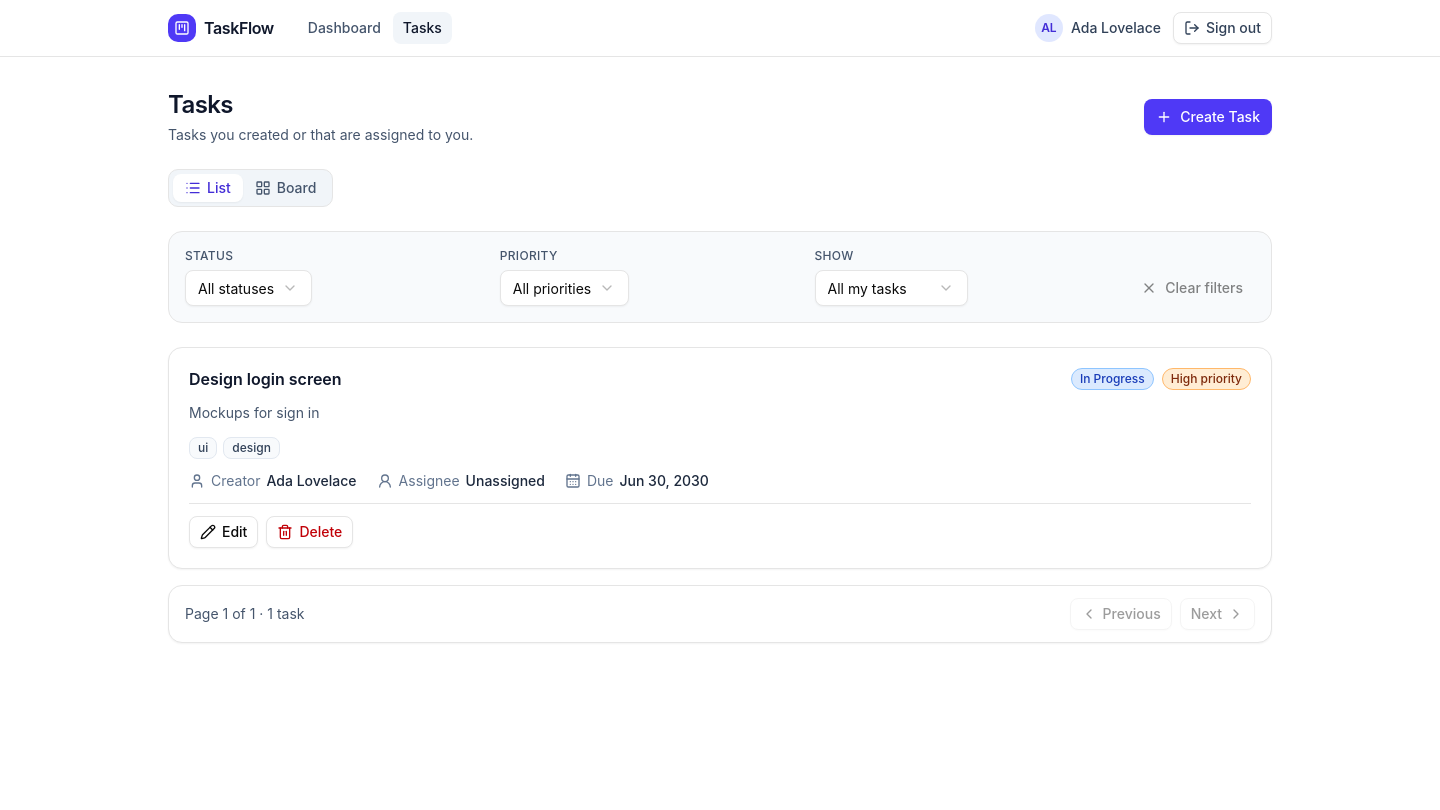
Scenario: edit task › opens pre-filled with the current values
Click the button with aria-label "Edit task: Design login screen": [224, 532] box [189,516,258,548]
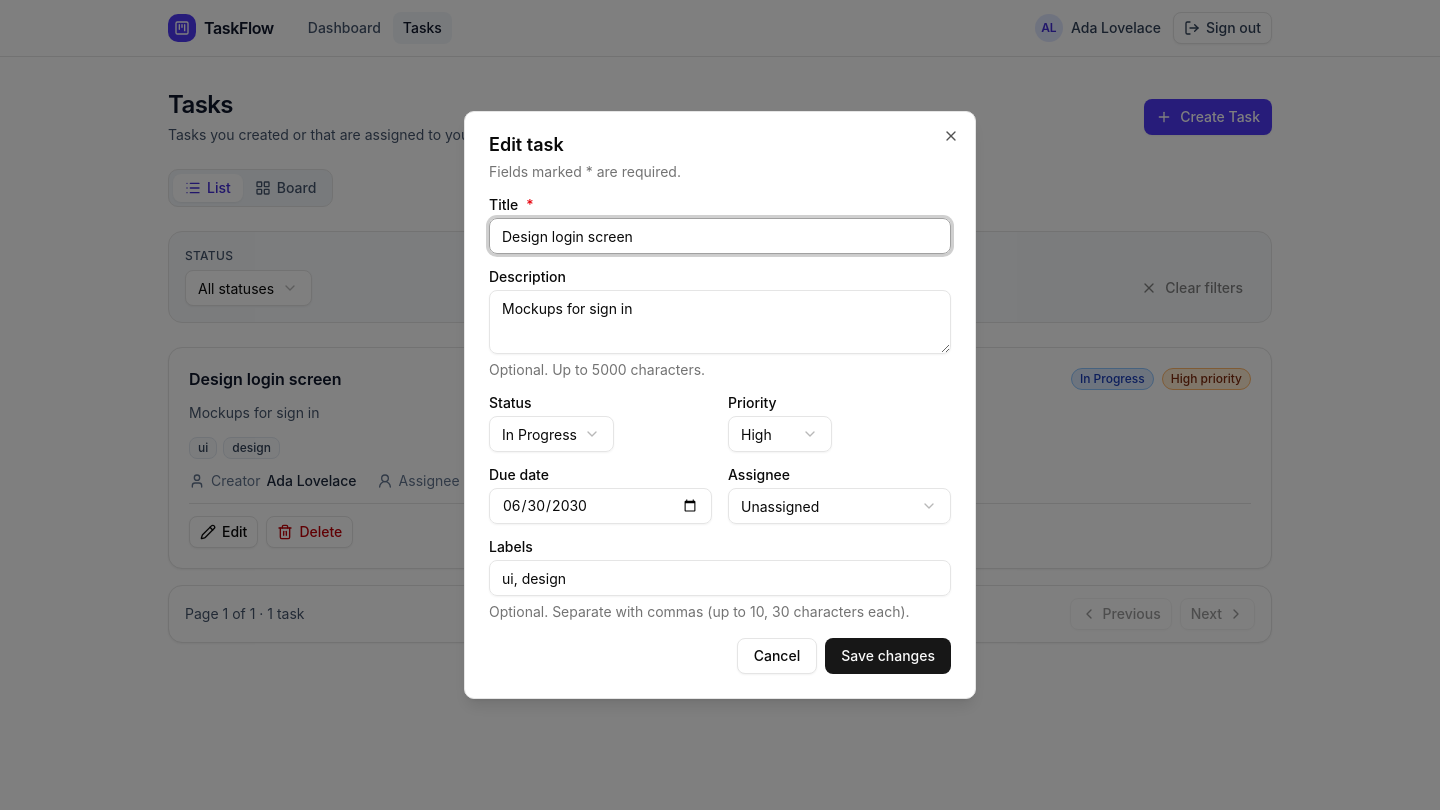
Result: the field labelled "Title *" holds "Design login screen" at [489,218,951,254]
Result: the text box labelled "Description" holds "Mockups for sign in" at [489,290,951,354]
Result: the dropdown labelled "Status" shows "In Progress" at [489,416,614,452]
